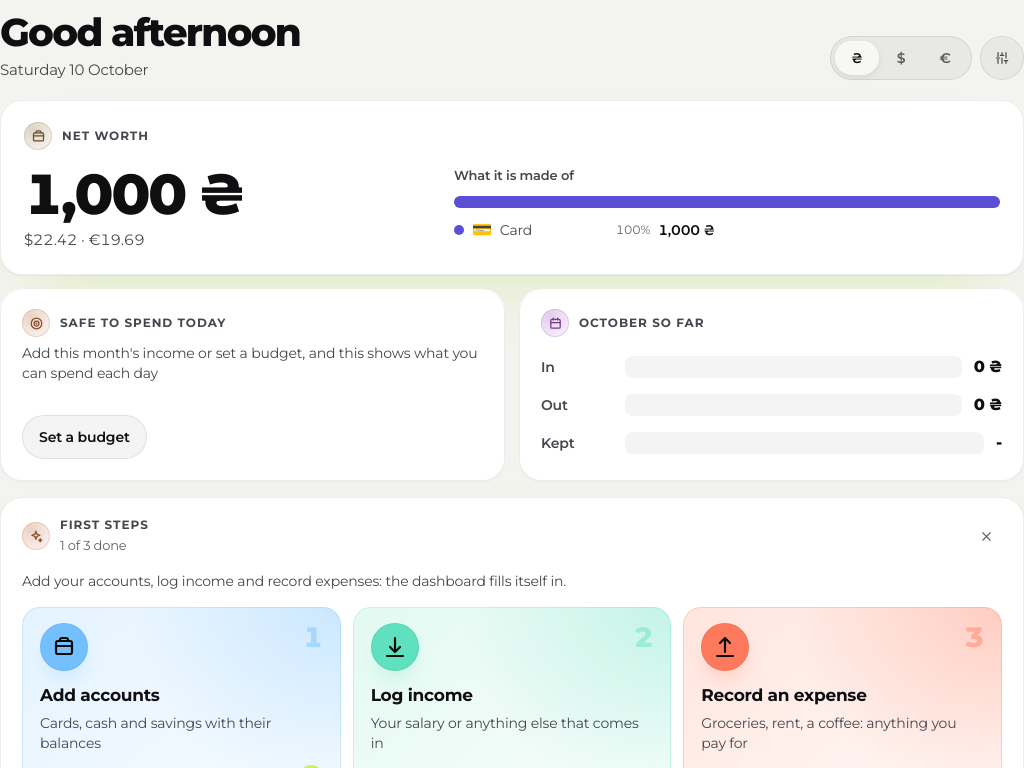
Test case: DashboardPage › keeps the first steps above the cards until they are put away
Expected: the text "1 of 3 done" is shown, x1=60 y1=538 x2=126 y2=554
Click the button named "Dismiss": coordinates (986, 536) x1=970 y1=520 x2=1002 y2=552
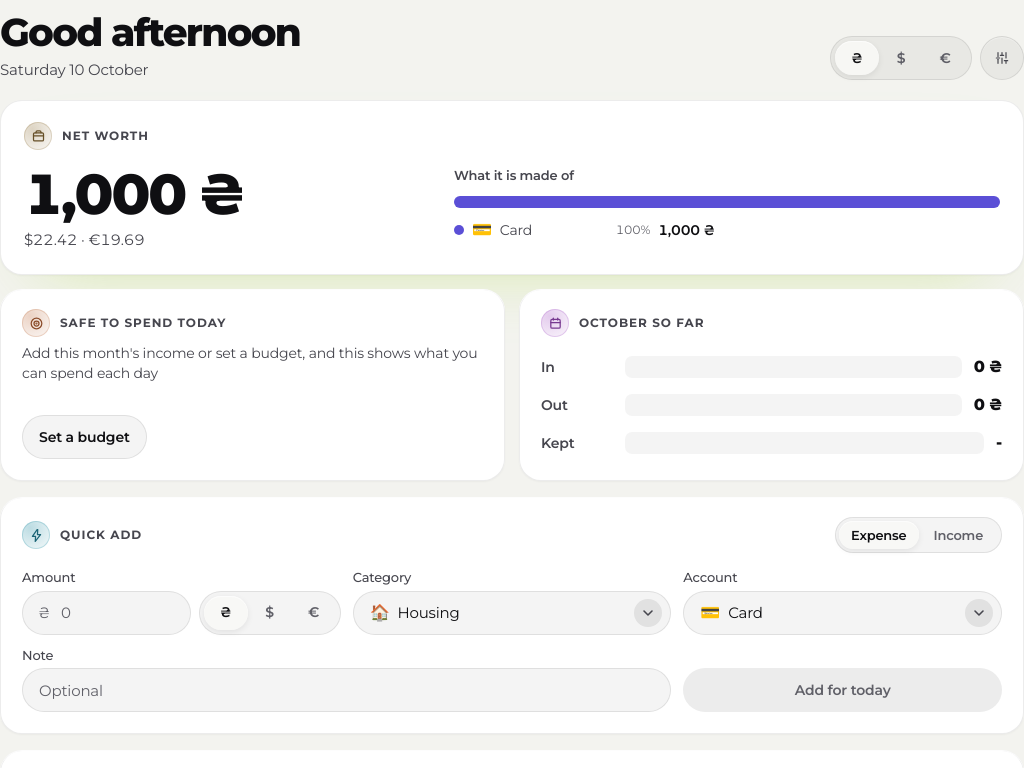
Now the text "1 of 3 done" is gone
